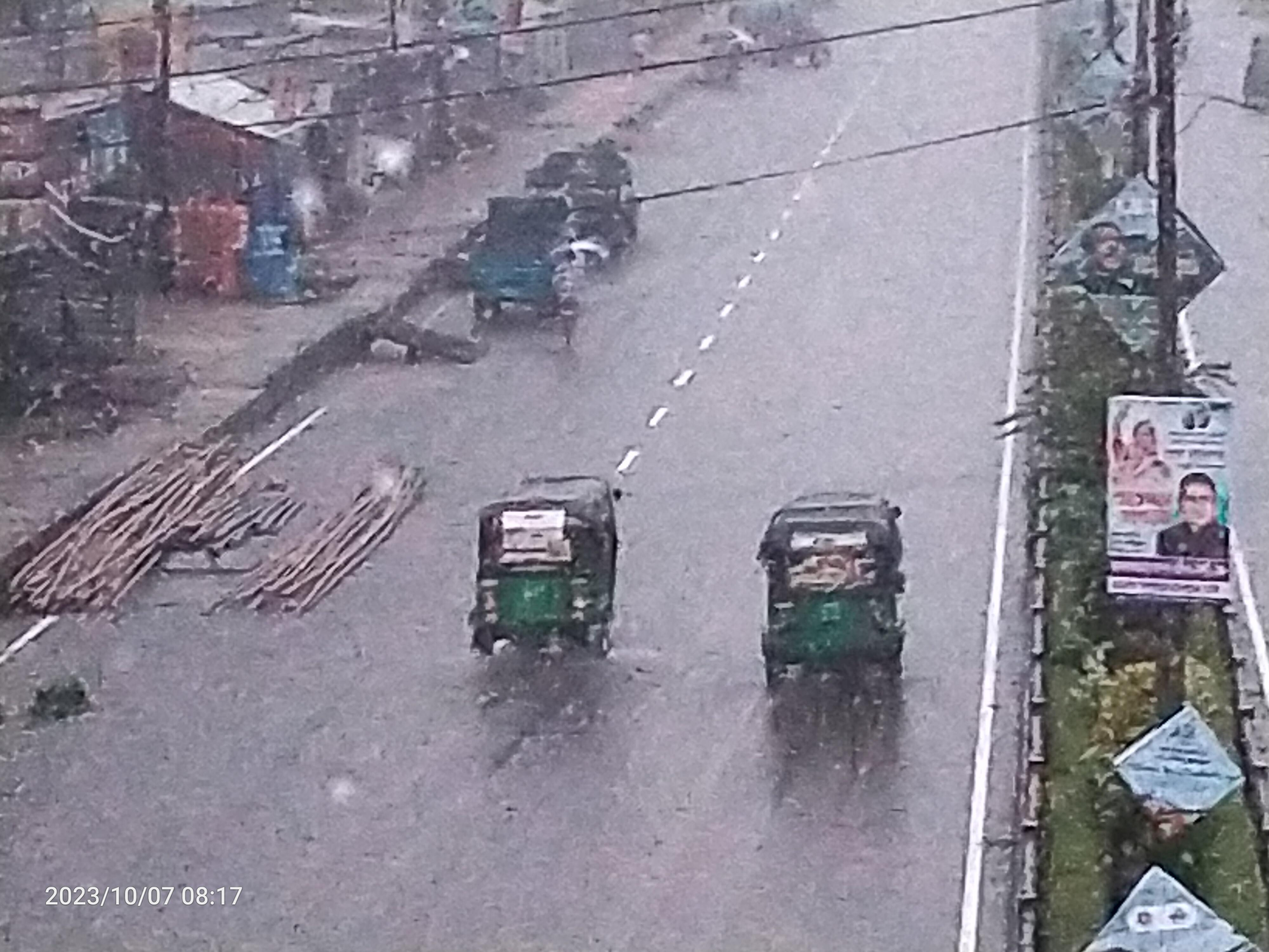Truck: (435, 176, 585, 340)
